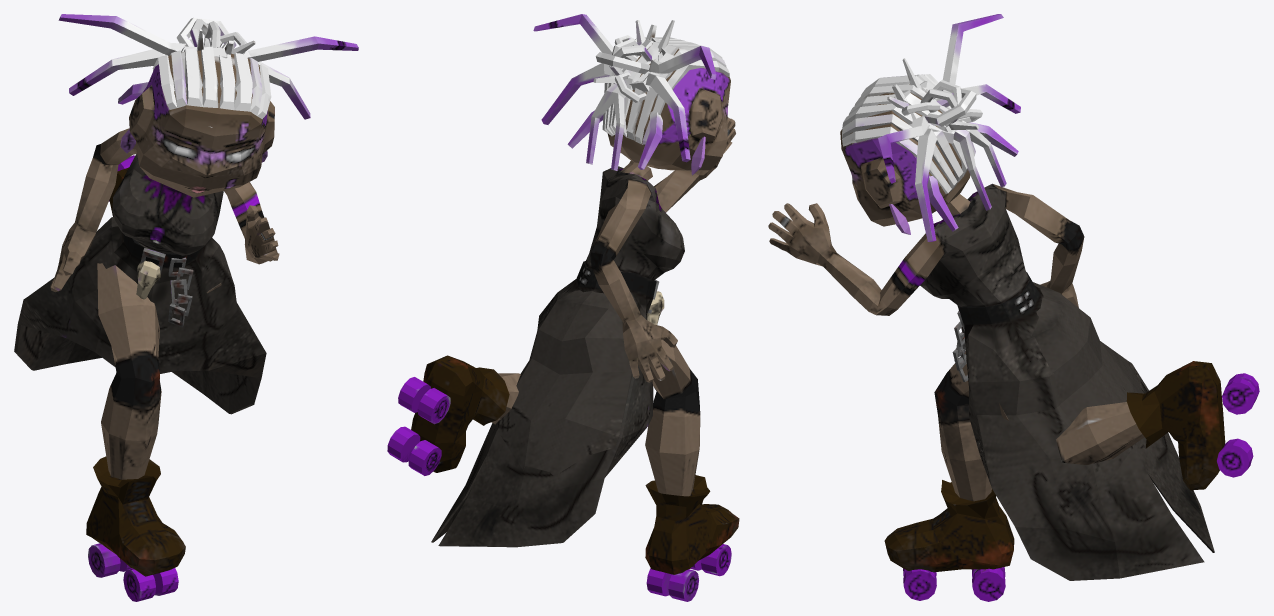
The model's file is bruja_000010.obj.
3 views of the same model, side by side, from view 1: azimuth 30°, elevation 25°; view 2: azimuth 150°, elevation 25°; view 3: azimuth 270°, elevation 25° (orthographic). The views are drawn at different scales.
Parts seen in each view (by area): view 1: Bruja_Plane.001; view 2: Bruja_Plane.001; view 3: Bruja_Plane.001.
Part boxes in pixels (x1,y1,x2,y2): Bruja_Plane.001: (14, 14, 358, 601); Bruja_Plane.001: (387, 14, 739, 601); Bruja_Plane.001: (768, 14, 1259, 601).
Size of the model in its own units: 6.85 by 15.29 by 12.11.
